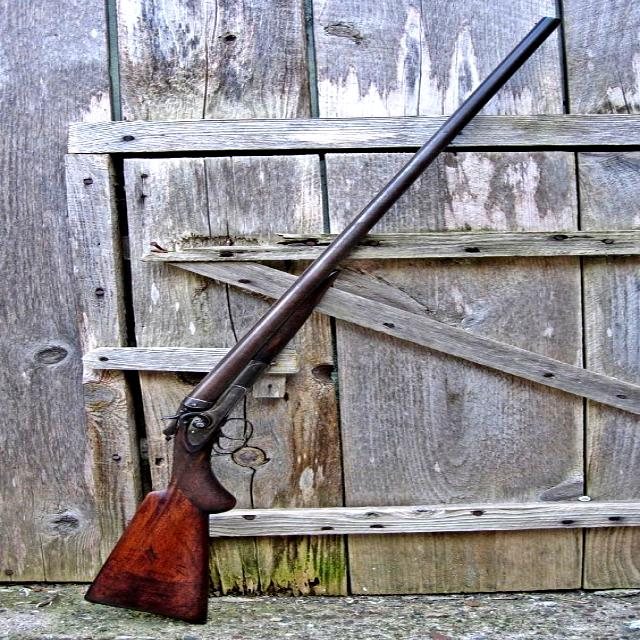shotgun: (70, 0, 594, 635)
